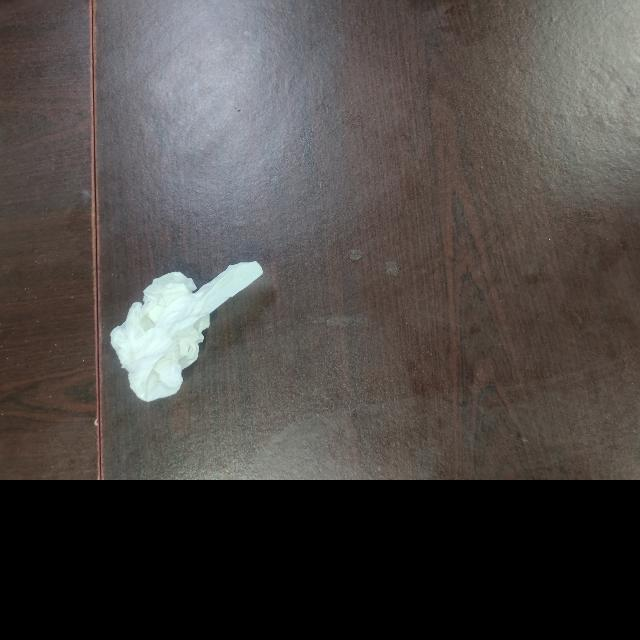kitchen paper: (106, 258, 266, 407)
